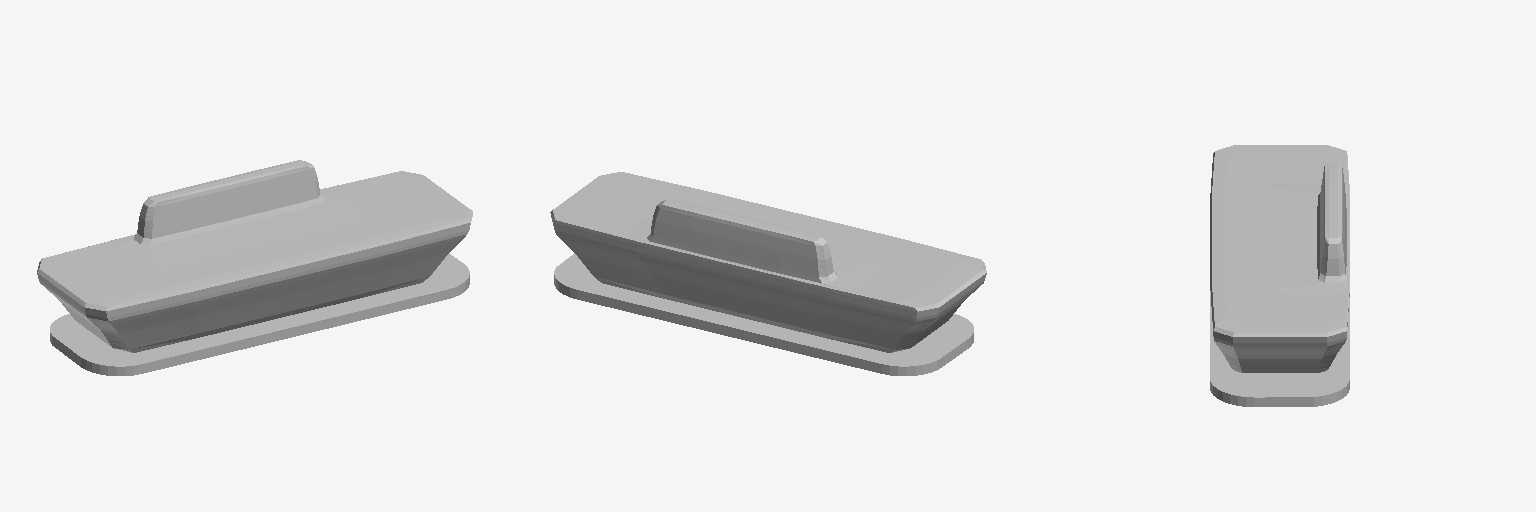
The model's file is damage_marker.obj.
The picture shows the model from 3 angles: view 1: azimuth 30°, elevation 25°; view 2: azimuth 150°, elevation 25°; view 3: azimuth 270°, elevation 25°; orthographic projection.
Visible parts, largest first — view 1: DamageMarker_DamageMarkerMesh; view 2: DamageMarker_DamageMarkerMesh; view 3: DamageMarker_DamageMarkerMesh.
Boxes of the visible parts, <box> form: DamageMarker_DamageMarkerMesh: <box>37,160,472,375</box>; DamageMarker_DamageMarkerMesh: <box>550,172,986,375</box>; DamageMarker_DamageMarkerMesh: <box>1210,145,1349,406</box>.
Bounding box in the file's own units: 9.99 × 2.74 × 3.1.